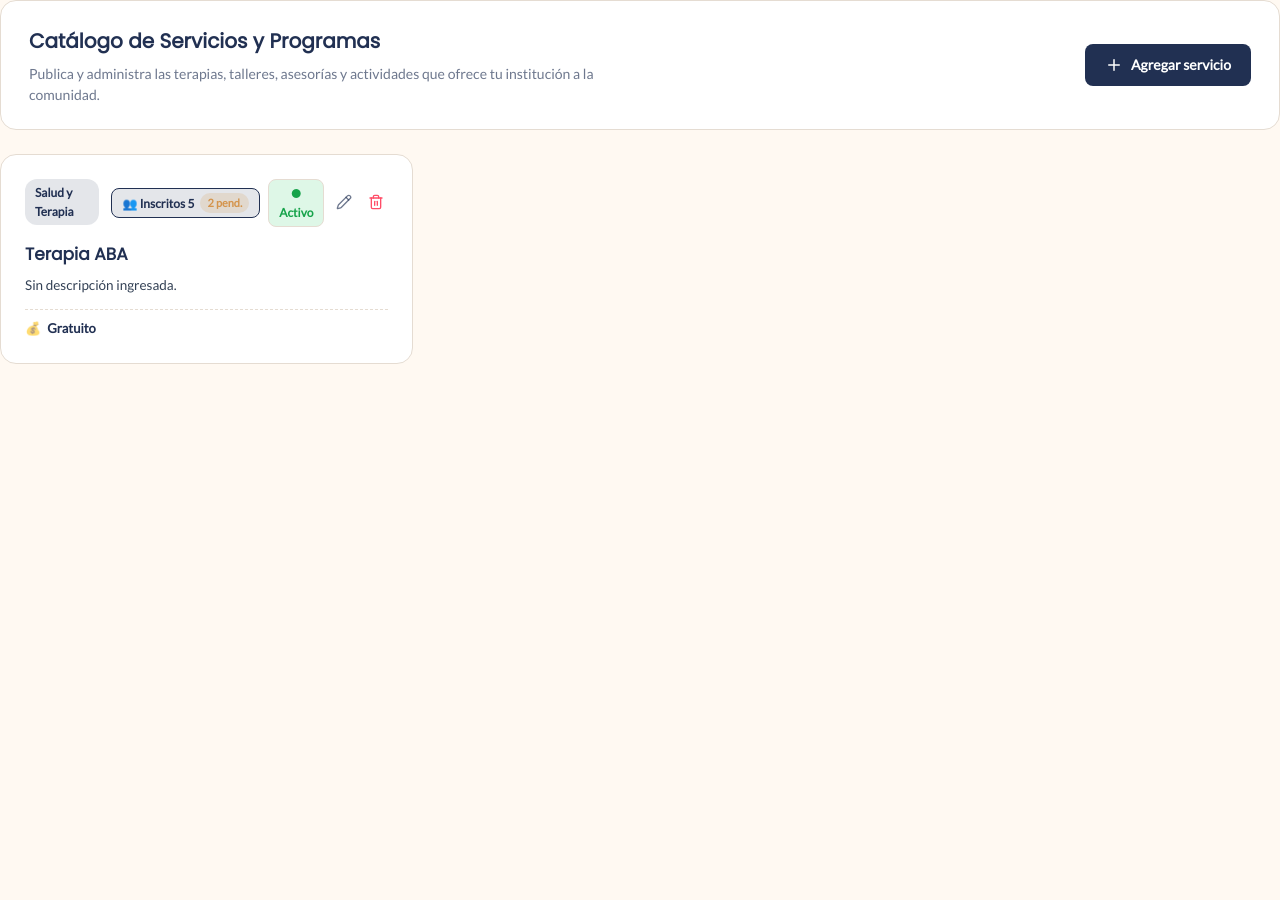
Test: ServiciosTab — badge de inscritos y atajos › muestra el conteo, abre el modal y el atajo a foro precarga el borrador
Check: the text "2 pend." is shown, box [200,193,249,213]
Abre el modal de inscritos
Click the button "👥 Inscritos 5 2 pend." at (186, 203), box [111,188,260,218]
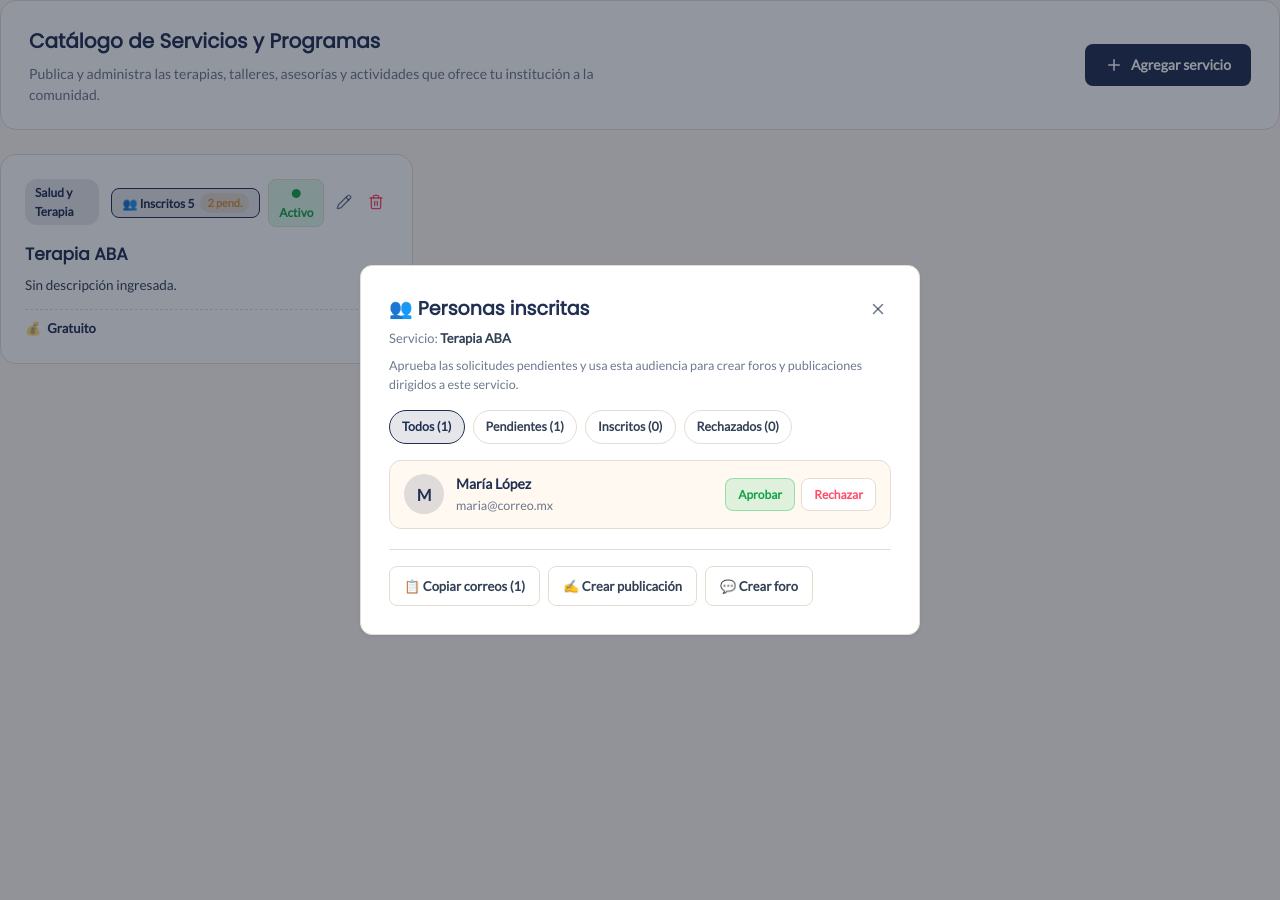
Check: the heading "👥 Personas inscritas" is shown, box [389,294,590,324]
Check: the text "María López" is shown, box [456,475,531,492]
Atajo "Crear foro": precarga el borrador y cambia a la pestaña de foros
Click the button "💬 Crear foro" at (759, 586), box [705,566,813,606]
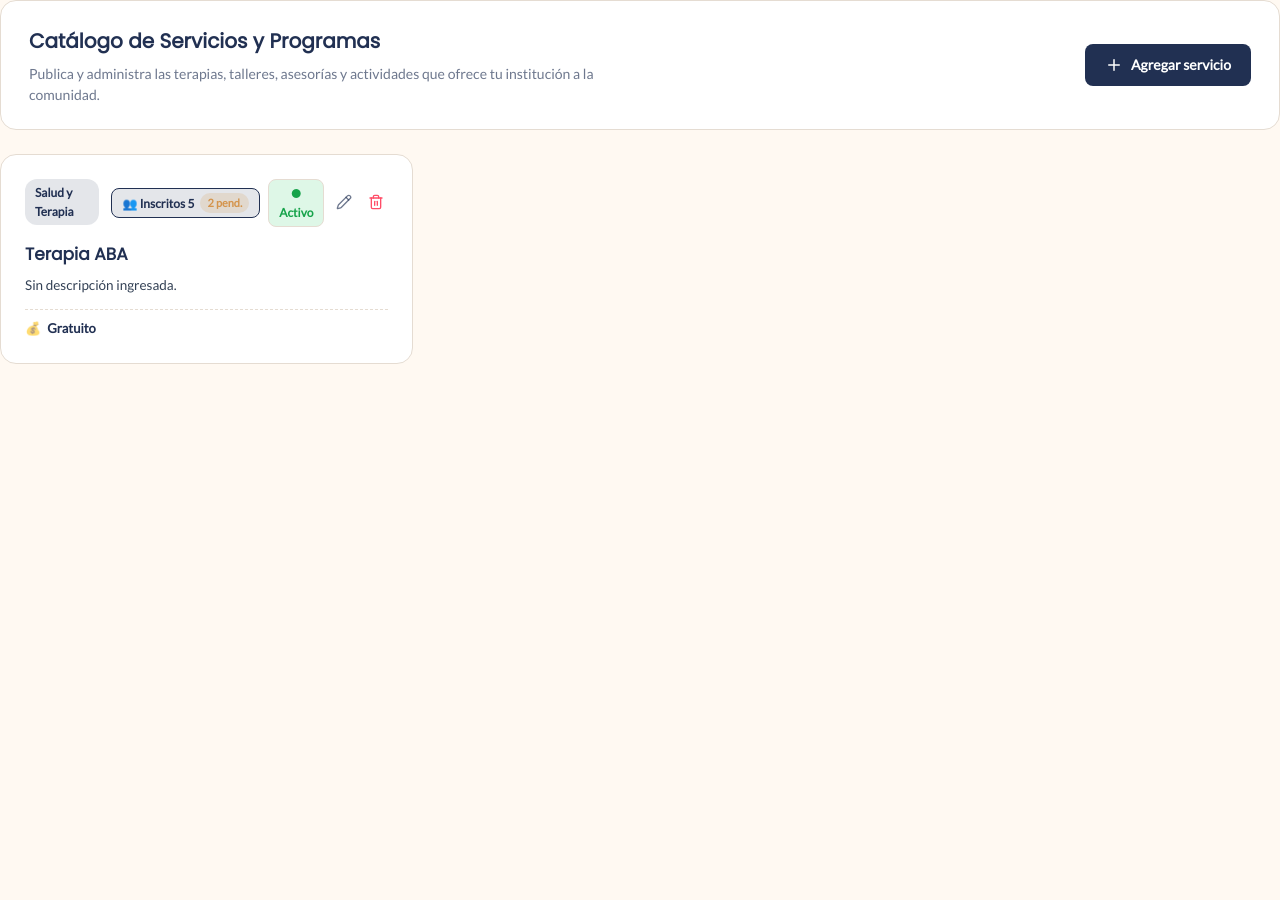
Check: the heading "Personas inscritas" is gone
